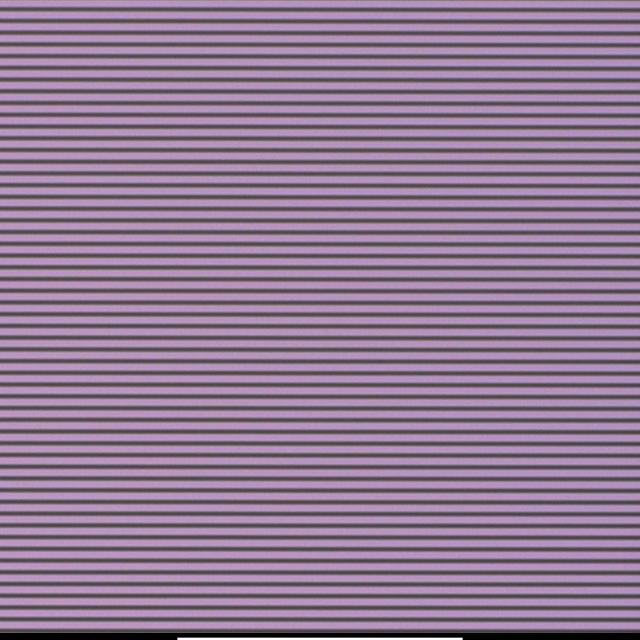nonvisual: (302, 328, 312, 337)
